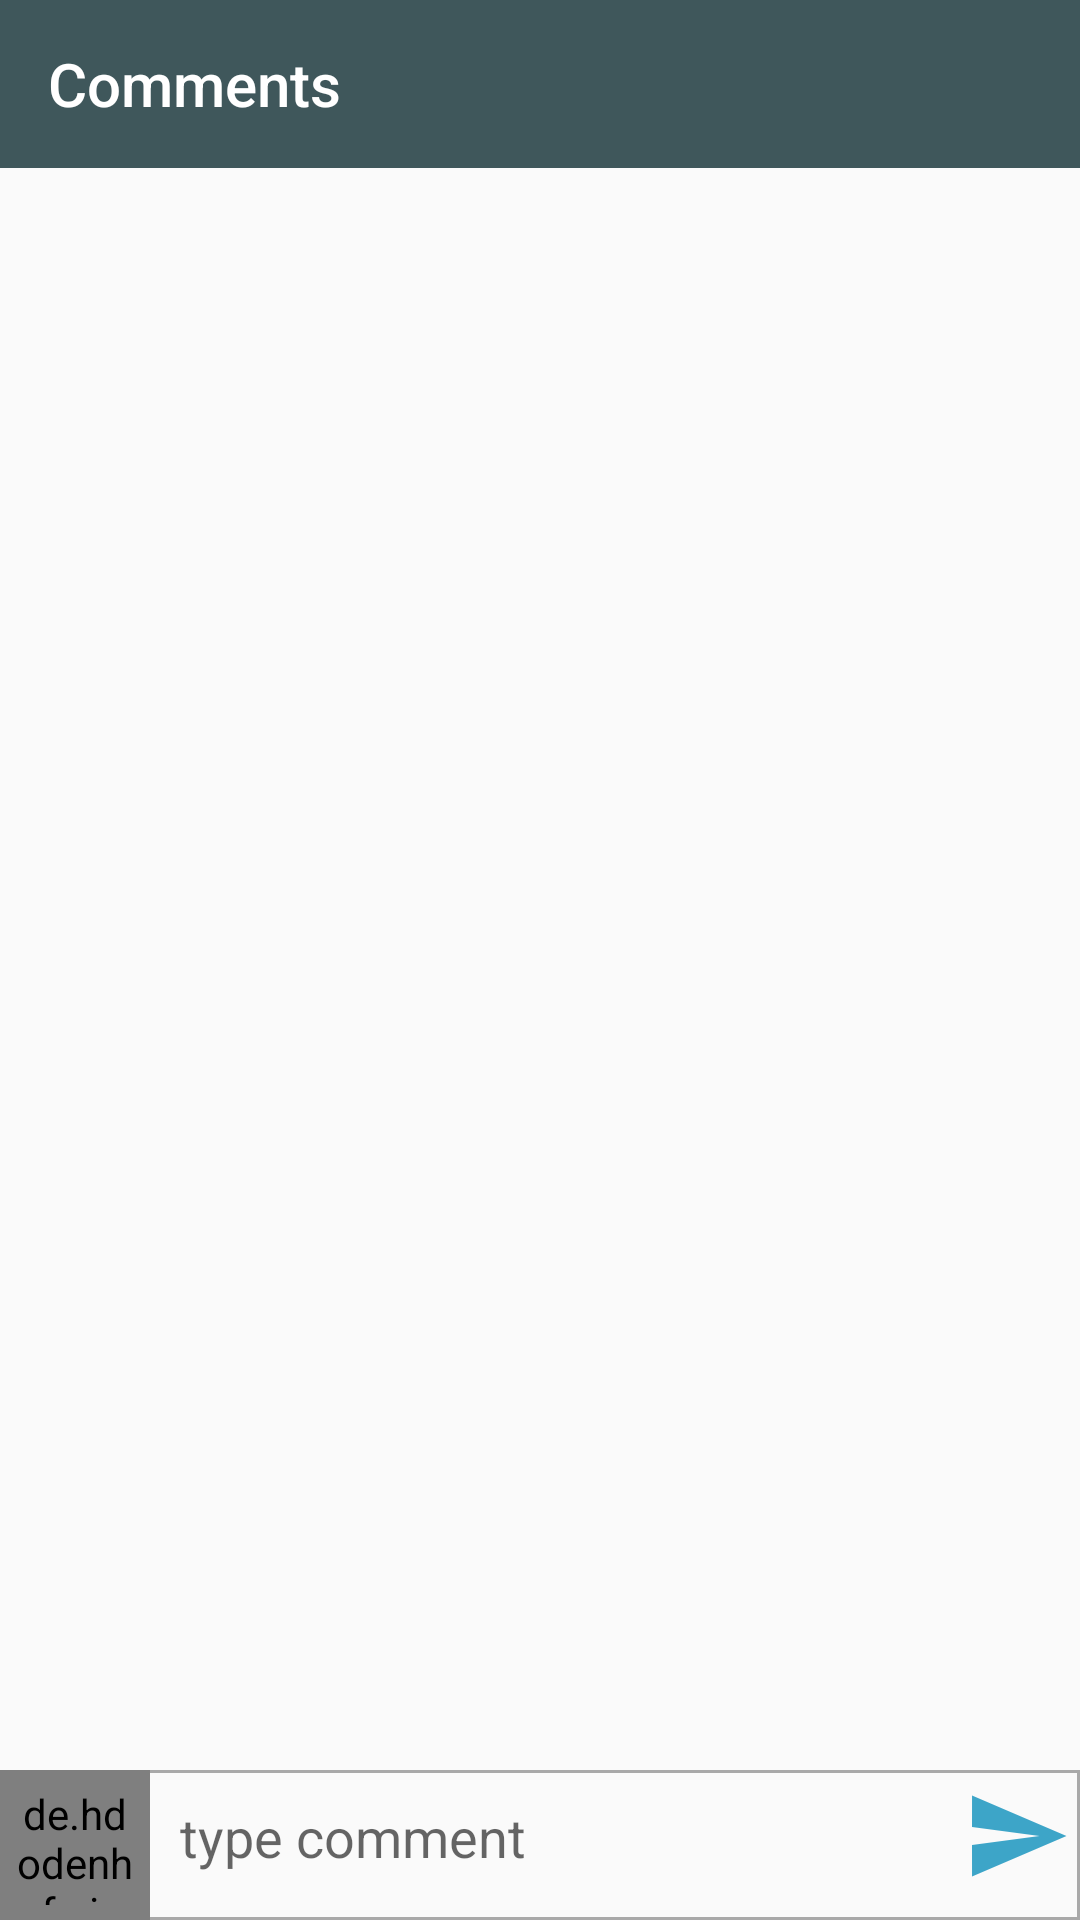

Named icons in this screenshot (1080px x 1920px) and their centers, point (x, y):
send: point (1019, 1836)
